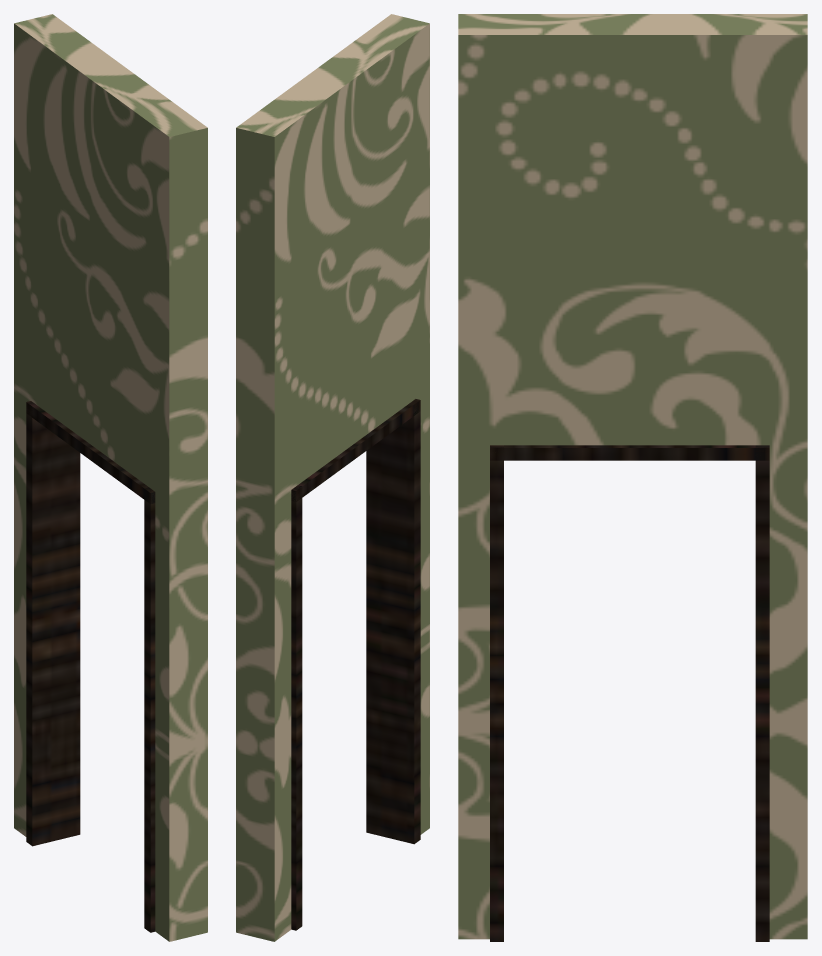
The model's file is door-frame.fbx.
3 renders of one model, left to right at view 1: azimuth 30°, elevation 25°; view 2: azimuth 150°, elevation 25°; view 3: azimuth 270°, elevation 25°, orthographic. The views are drawn at different scales.
Parts seen in each view (by area): view 1: Wall_5x2.001; view 2: Wall_5x2.001; view 3: Wall_5x2.001.
Part boxes in pixels (box(x1,y1,x2,y2)): Wall_5x2.001: box(14, 14, 207, 941); Wall_5x2.001: box(236, 14, 429, 941); Wall_5x2.001: box(458, 14, 807, 941).
Bounding box in the file's own units: 31.25 × 500 × 175.
2 materials, 2 textured.
